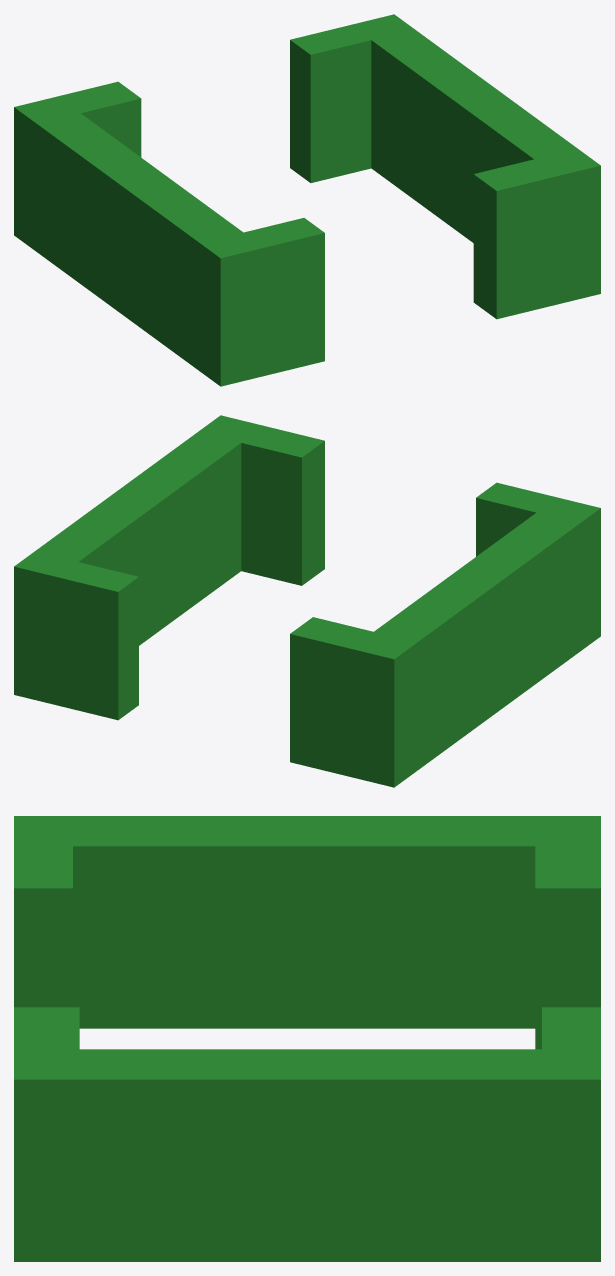
Rendered from StatueHedge.fbx.
The picture shows the model from 3 angles, top to bottom: view 1: azimuth 30°, elevation 25°; view 2: azimuth 150°, elevation 25°; view 3: azimuth 270°, elevation 25°; orthographic projection. The views are drawn at different scales.
Parts seen in each view (by area): view 1: Cube.003; view 2: Cube.003; view 3: Cube.003.
Part boxes in pixels (x1,y1,x2,y2): Cube.003: (14,14,600,386); Cube.003: (14,415,600,787); Cube.003: (14,816,600,1261).
Bounding box in the file's own units: 1742 × 562 × 1640.
